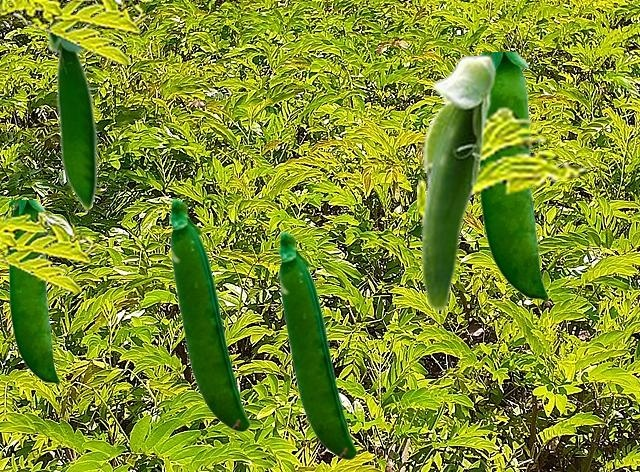pea: (420, 54, 496, 311), (168, 197, 249, 431), (277, 230, 356, 459), (479, 52, 548, 304), (9, 200, 59, 386), (47, 30, 97, 215)
